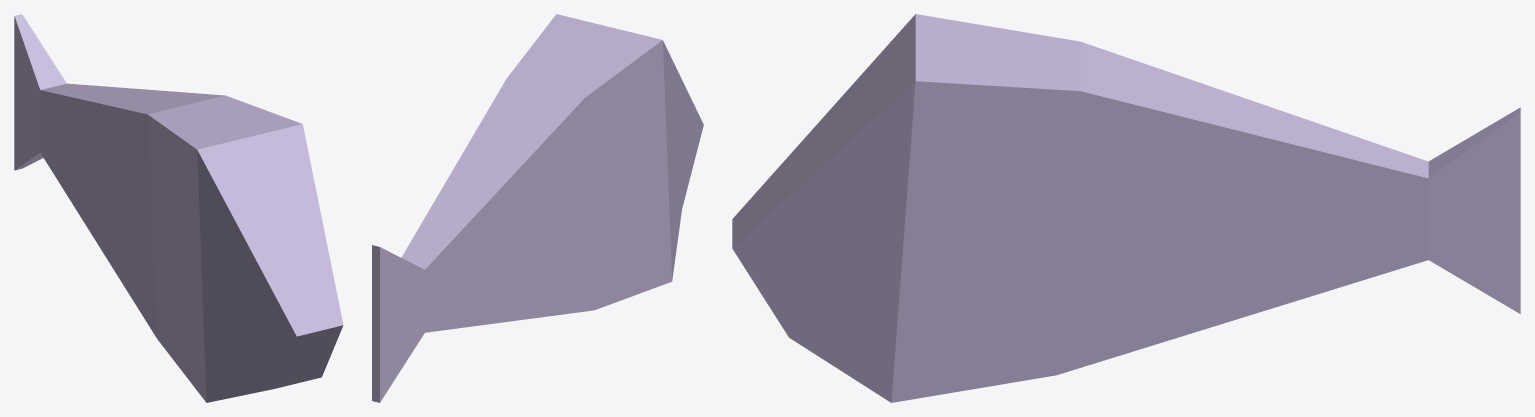
Rendered from fish.fbx.
The picture shows the model from 3 angles, left to right: view 1: azimuth 30°, elevation 25°; view 2: azimuth 150°, elevation 25°; view 3: azimuth 270°, elevation 25°; orthographic projection. The views are drawn at different scales.
Visible parts, largest first — view 1: pCube1; view 2: pCube1; view 3: pCube1.
Boxes of the visible parts, left/top/right/bottom form: pCube1: left=14, top=14, right=343, bottom=402; pCube1: left=372, top=14, right=703, bottom=402; pCube1: left=732, top=14, right=1520, bottom=402.
Bounding box in the file's own units: 12.07 × 26.94 × 59.81.
Materials: 1 (1 with a texture image).
